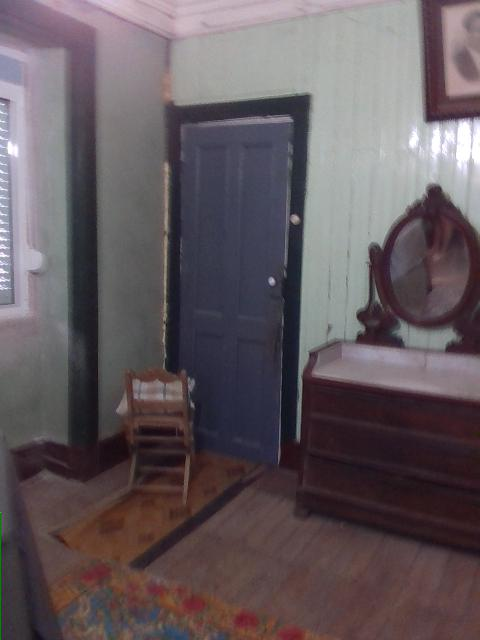door: (166, 91, 309, 473)
